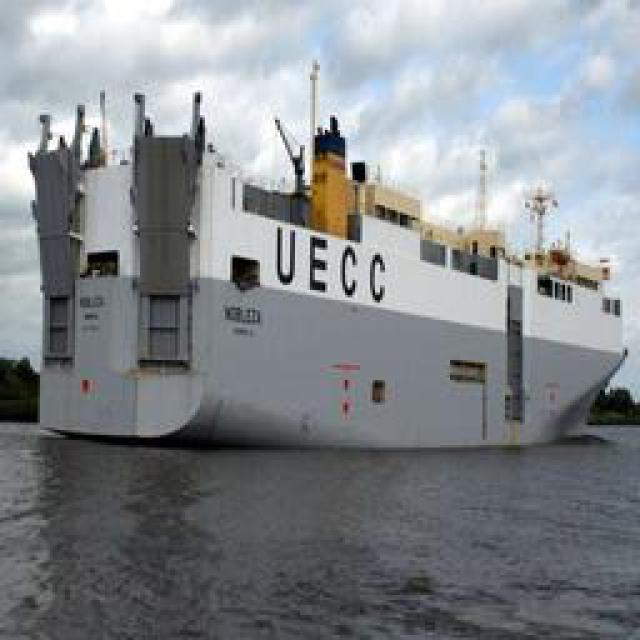Ship: (15, 49, 640, 462)
